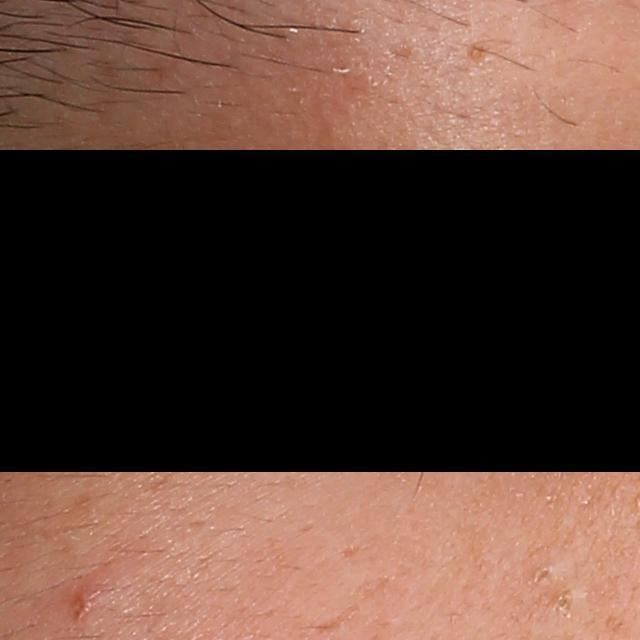comedo: (550, 594, 576, 616), (529, 565, 556, 584)
papule: (69, 580, 105, 615)
